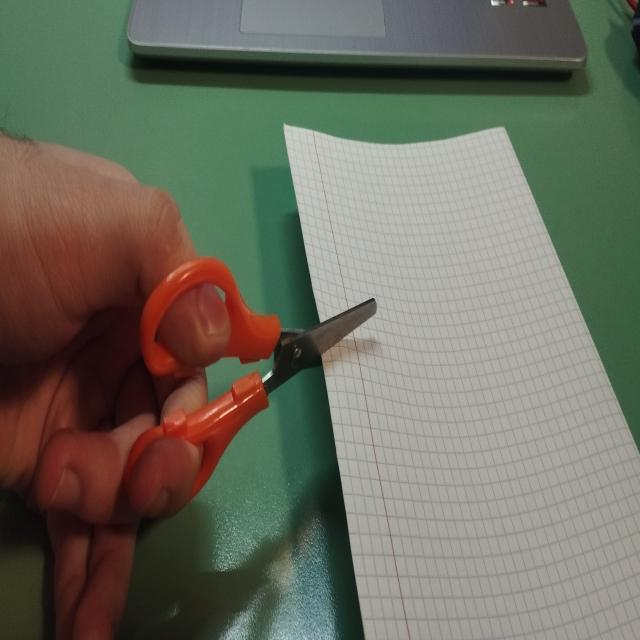tesoura: (118, 244, 380, 532)
